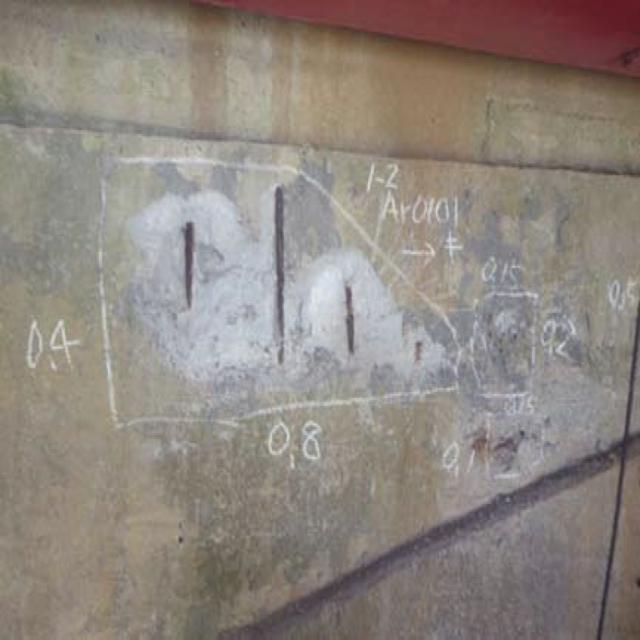spalling: (130, 183, 446, 386), (464, 408, 564, 488)
